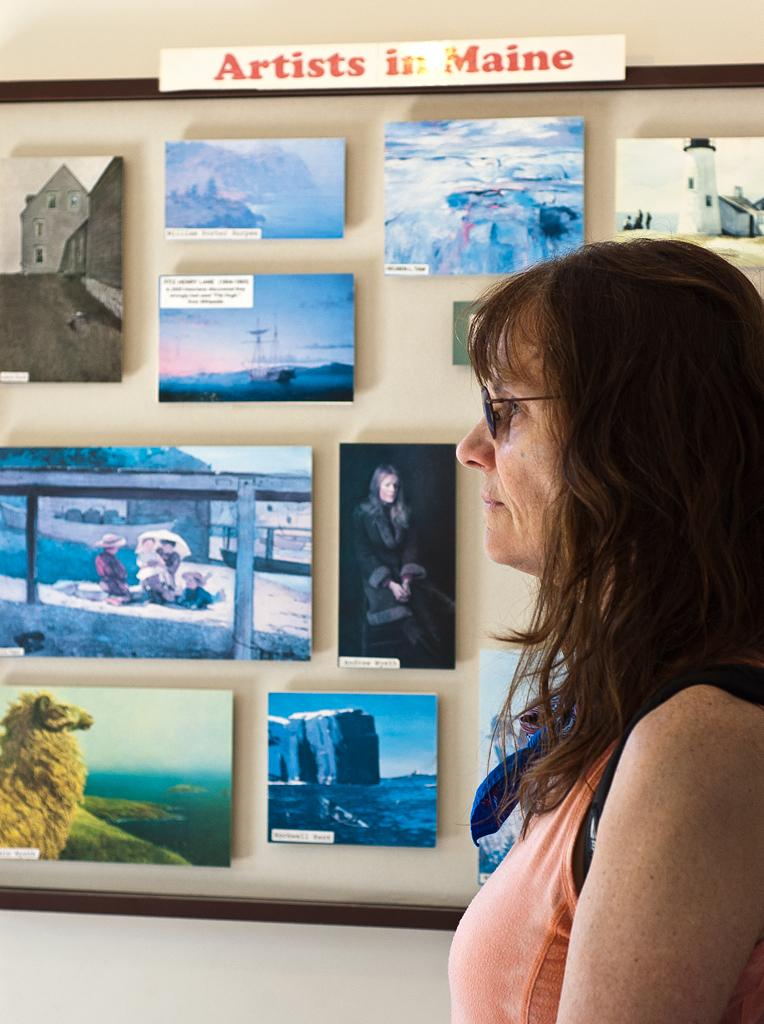Sem Máscara: (454, 308, 566, 563), (381, 471, 396, 502)
